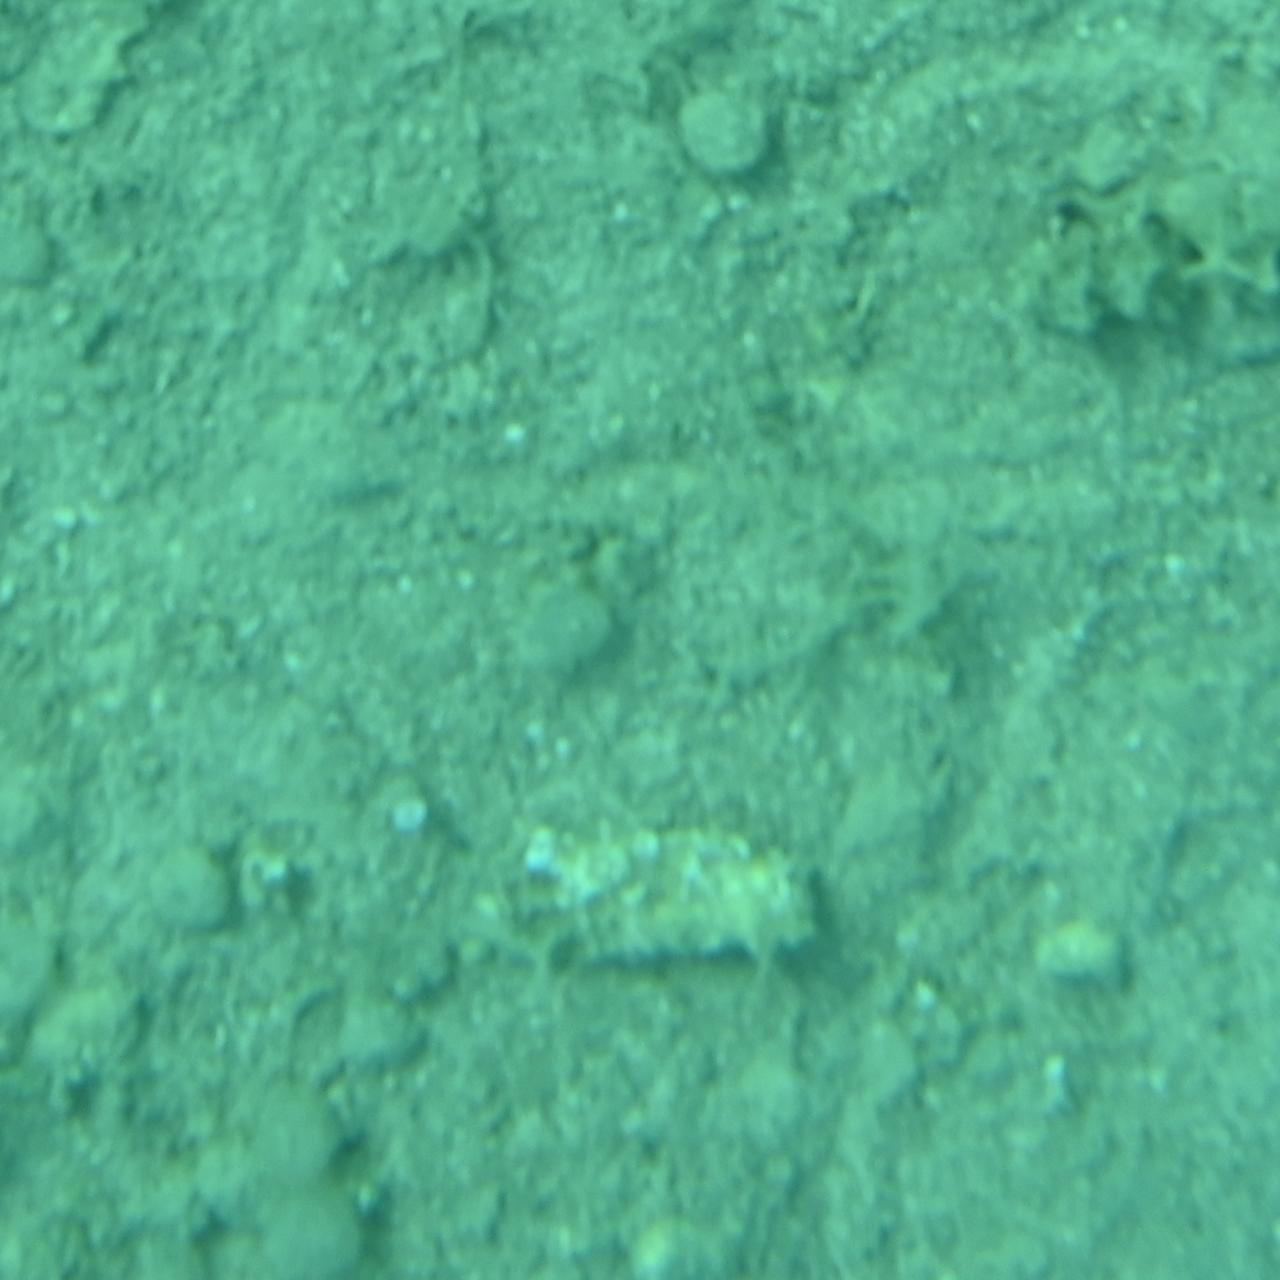Gobius sp: (430, 805, 850, 981)
